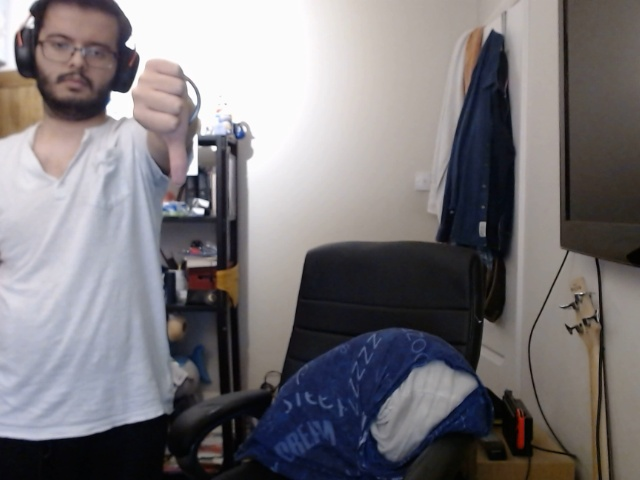Thumbs down: (131, 56, 194, 203)
